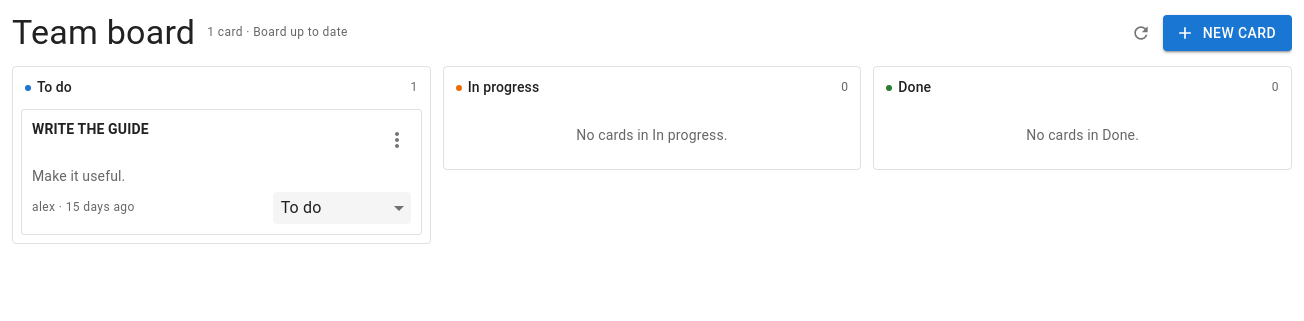
Scenario: shared kanban board › reports a conflicting move and refreshes without overwriting teammate changes
Check: the element that starts with "Write the guide" is shown, box [21,109,422,235]
Select "In progress" in the dropdown named "Status for Write the guide" at x=342, y=208, box [281,192,403,224]
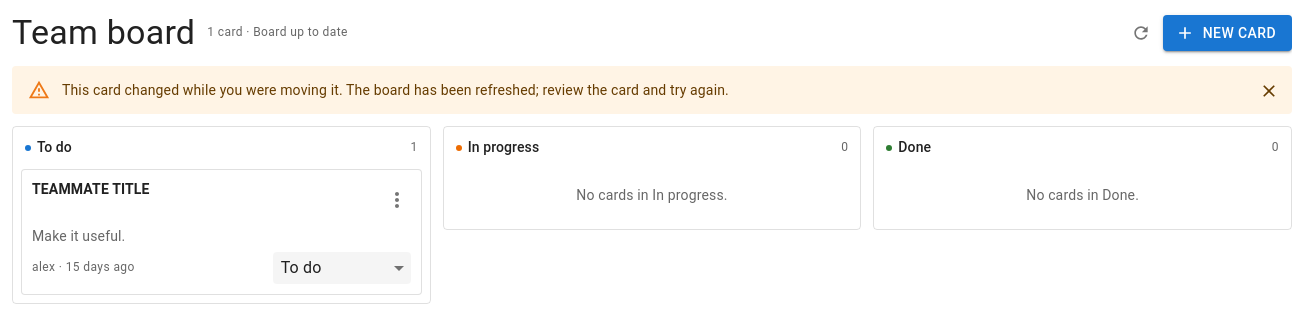
Check: the text "changed while you were moving" is shown, box [62,82,729,98]
Check: the element "Teammate title" is shown, box [21,169,422,295]
